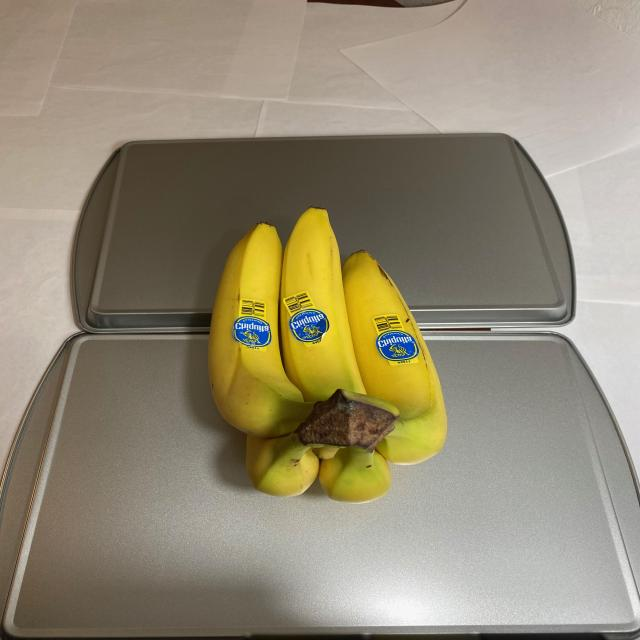banana: (210, 200, 450, 503)
